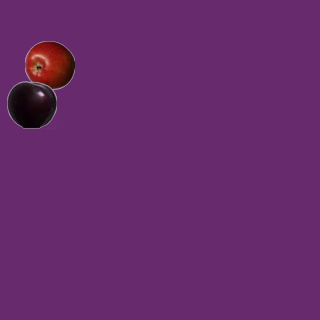Apple Braeburn: (24, 40, 74, 90)
Cherry Wax Black: (6, 79, 56, 129)
